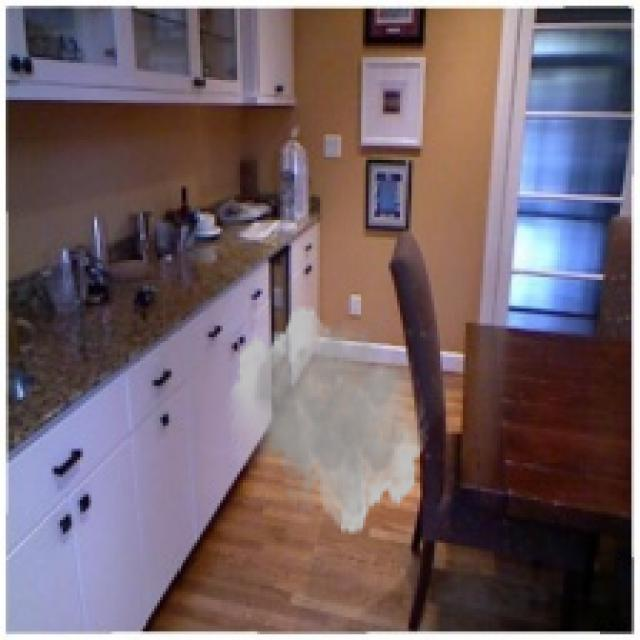smoke: (226, 303, 428, 537)
